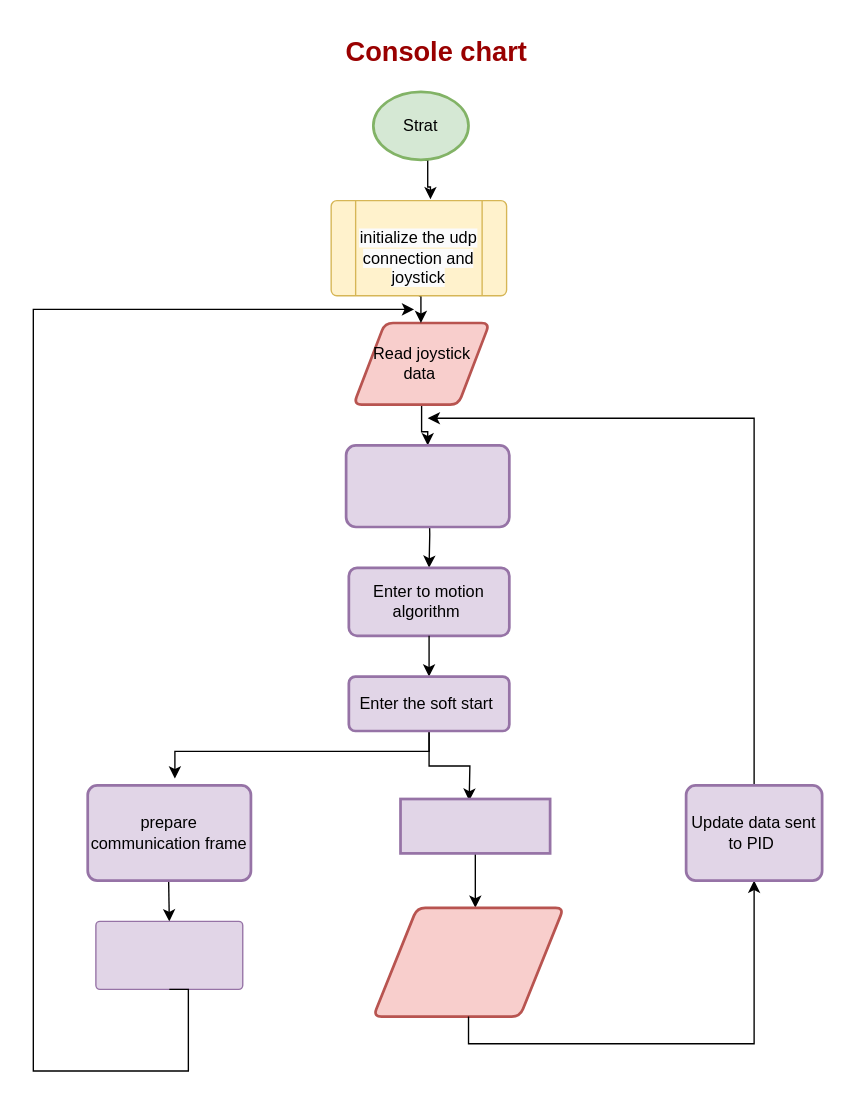
This 847x1106 diagram has some shape labels left out. Here are the shapes that lost their labels. From the top down, the box of each, then its label:
(344, 443, 510, 528): Enter PID system
(398, 797, 551, 854): Receive data from Box
(95, 920, 243, 989): Send frame to ethernet Nano
(371, 906, 564, 1017): Write the data received from box
